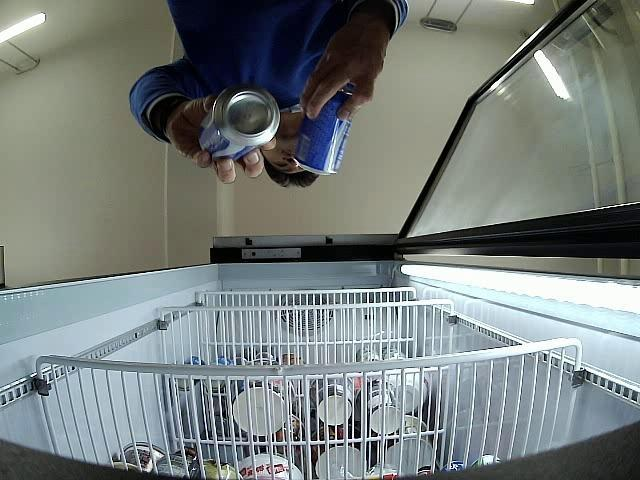13_pocariSweat: (198, 86, 280, 162), (292, 90, 352, 175)
